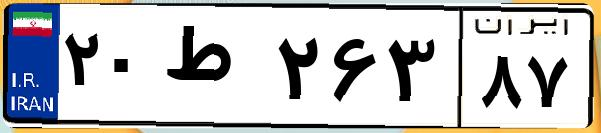0: (110, 28, 158, 98)
2: (270, 28, 330, 110), (57, 26, 110, 100)
3: (385, 28, 445, 110)
6: (330, 28, 385, 110)
7: (525, 38, 570, 115)
8: (475, 38, 525, 113)
ط: (158, 20, 270, 120)
